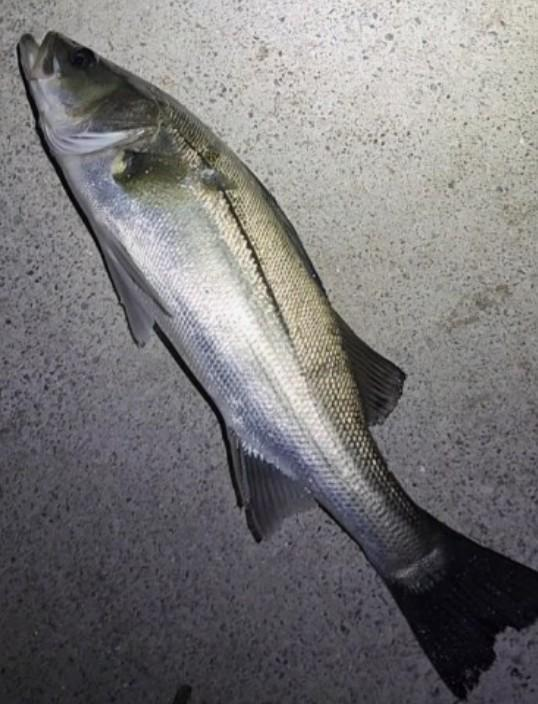fish: (18, 31, 537, 692)
